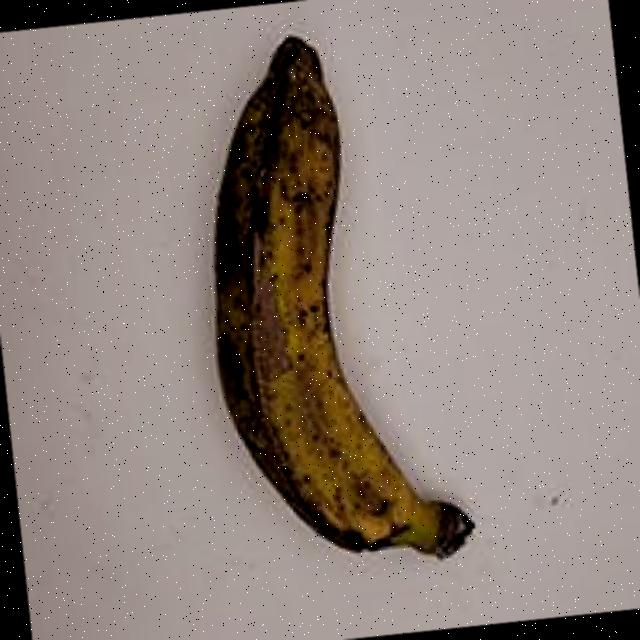Overripe: (152, 0, 506, 596)
